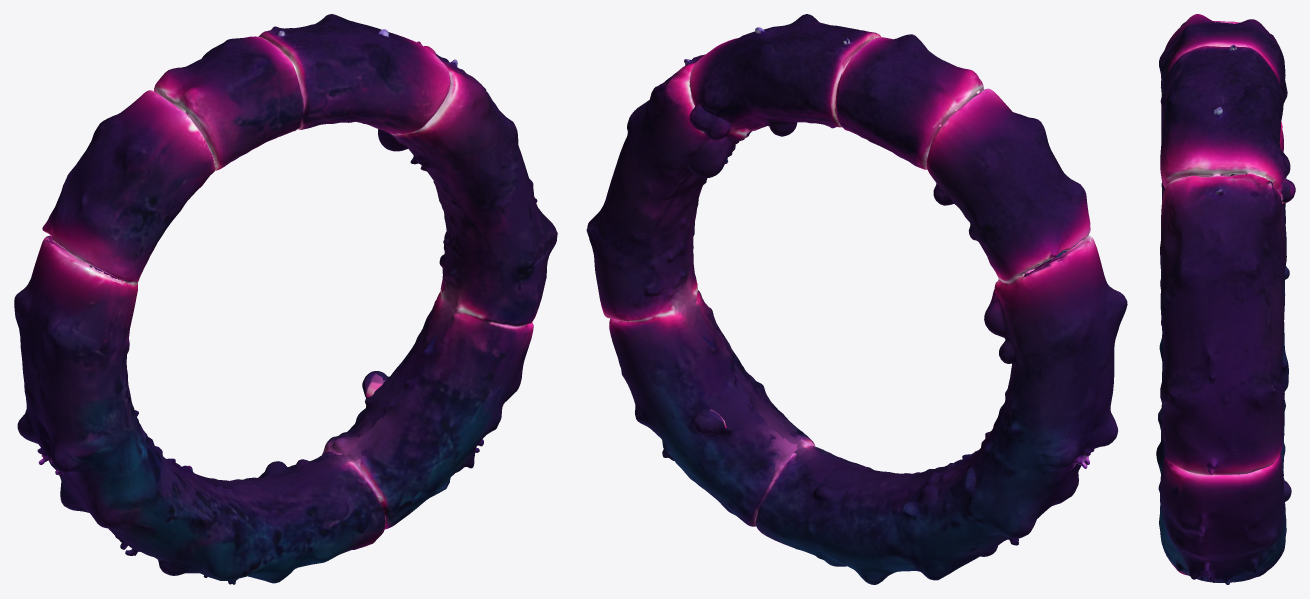
File: shore-ring-generated-2026-04-19T06-22-12-051Z.high.glb
3 renders of one model, left to right at view 1: azimuth 30°, elevation 25°; view 2: azimuth 150°, elevation 25°; view 3: azimuth 270°, elevation 25°, orthographic. The views are drawn at different scales.
Visible parts, largest first — view 1: temp_mesh.ply; view 2: temp_mesh.ply; view 3: temp_mesh.ply.
Boxes of the visible parts, x1,y1,x2,y2 form: temp_mesh.ply: (14,14,557,584); temp_mesh.ply: (586,14,1127,584); temp_mesh.ply: (1156,14,1295,584).
Size of the model in its own units: 1.97 by 1.97 by 0.4789.
1 material, 1 textured.
